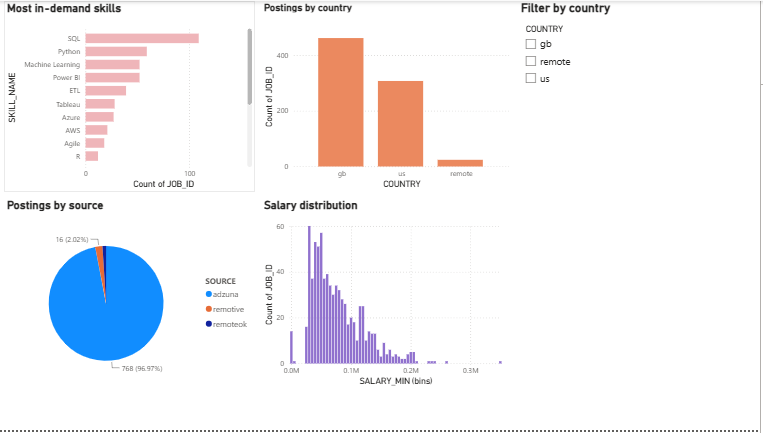

What the dashboard file says about the page in this screenshot:
{"tool":"powerbi","page":{"name":"Page 1","canvas":[1280,720],"ordinal":0},"visuals":[{"type":"clusteredBarChart","title":"Most in-demand skills","fields":{"Category":["job_postings_with_skills.SKILL_NAME"],"Y":["CountNonNull(job_postings_with_skills.JOB_ID)"]},"box":[10.1,0,421.6,320.8],"z":0},{"type":"pieChart","title":"Postings by source","fields":{"Category":["job_postings.SOURCE"],"Y":["CountNonNull(job_postings.JOB_ID)"]},"box":[10,331,422,321],"z":1000},{"type":"clusteredColumnChart","title":"Postings by country","fields":{"Category":["job_postings.COUNTRY"],"Y":["CountNonNull(job_postings.JOB_ID)"]},"box":[442,0,422,321],"z":2000},{"type":"clusteredColumnChart","title":"Salary distribution","fields":{"Category":["job_postings.SALARY_MIN (bins)"],"Y":["CountNonNull(job_postings.JOB_ID)"]},"box":[442,331,422,321],"z":3000},{"type":"slicer","title":"Filter by country","fields":{"Values":["job_postings.COUNTRY"]},"box":[874,0,406,321],"z":4000}]}

Visuals, with their boxes in screenshot pixels (x1, y1, x2, y2), scaled from the page's 1280x720 canvas onto the 763x433 screenshot:
"Most in-demand skills" clusteredBarChart: [6,0,257,193]
"Postings by source" pieChart: [6,199,258,392]
"Postings by country" clusteredColumnChart: [263,0,515,193]
"Salary distribution" clusteredColumnChart: [263,199,515,392]
"Filter by country" slicer: [521,0,762,193]
